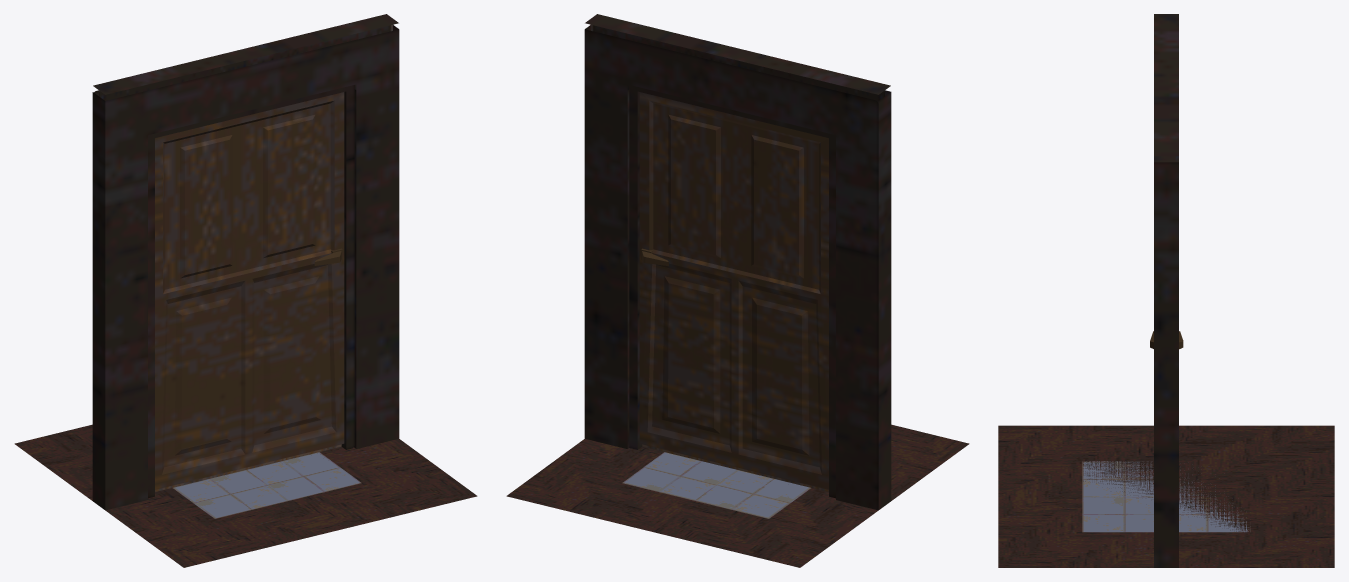
The model's file is FlatWalls&Floors.fbx.
3 views of the same model, side by side, from view 1: azimuth 30°, elevation 25°; view 2: azimuth 150°, elevation 25°; view 3: azimuth 270°, elevation 25° (orthographic).
Visible parts, largest first — view 1: FlatDoor, FlatWallDoor, FlatFloor, FlatWallDoor.001, FlatDoor.001, FlatKitchenFloor, FlatWall, FlatWallpaperWall; view 2: FlatDoor, FlatWallDoor, FlatWallDoor.001, FlatFloor, FlatDoor.001, FlatKitchenFloor, FlatWall, FlatWallpaperWall; view 3: FlatFloor, FlatWallDoor, FlatDoor.001, FlatKitchenFloor, FlatWallDoor.001.
Part boxes in pixels (x1=…): FlatDoor: x1=155, y1=92, x2=344, y2=489; FlatWallDoor: x1=92, y1=14, x2=399, y2=507; FlatFloor: x1=14, y1=424, x2=477, y2=567; FlatWallDoor.001: x1=92, y1=25, x2=399, y2=510; FlatDoor.001: x1=93, y1=35, x2=396, y2=498; FlatKitchenFloor: x1=173, y1=452, x2=361, y2=518; FlatWall: x1=99, y1=25, x2=390, y2=100; FlatWallpaperWall: x1=99, y1=25, x2=392, y2=491; FlatDoor: x1=639, y1=92, x2=828, y2=489; FlatWallDoor: x1=584, y1=14, x2=891, y2=509; FlatWallDoor.001: x1=584, y1=25, x2=891, y2=498; FlatFloor: x1=506, y1=424, x2=969, y2=567; FlatDoor.001: x1=584, y1=29, x2=891, y2=510; FlatKitchenFloor: x1=622, y1=452, x2=810, y2=518; FlatWall: x1=593, y1=25, x2=884, y2=103; FlatWallpaperWall: x1=591, y1=25, x2=884, y2=491; FlatFloor: x1=998, y1=425, x2=1334, y2=567; FlatWallDoor: x1=1154, y1=14, x2=1178, y2=567; FlatDoor.001: x1=1154, y1=162, x2=1178, y2=560; FlatKitchenFloor: x1=1082, y1=461, x2=1250, y2=532; FlatWallDoor.001: x1=1154, y1=162, x2=1178, y2=530.
Bounding box in the file's own units: 200 × 270 × 200.
